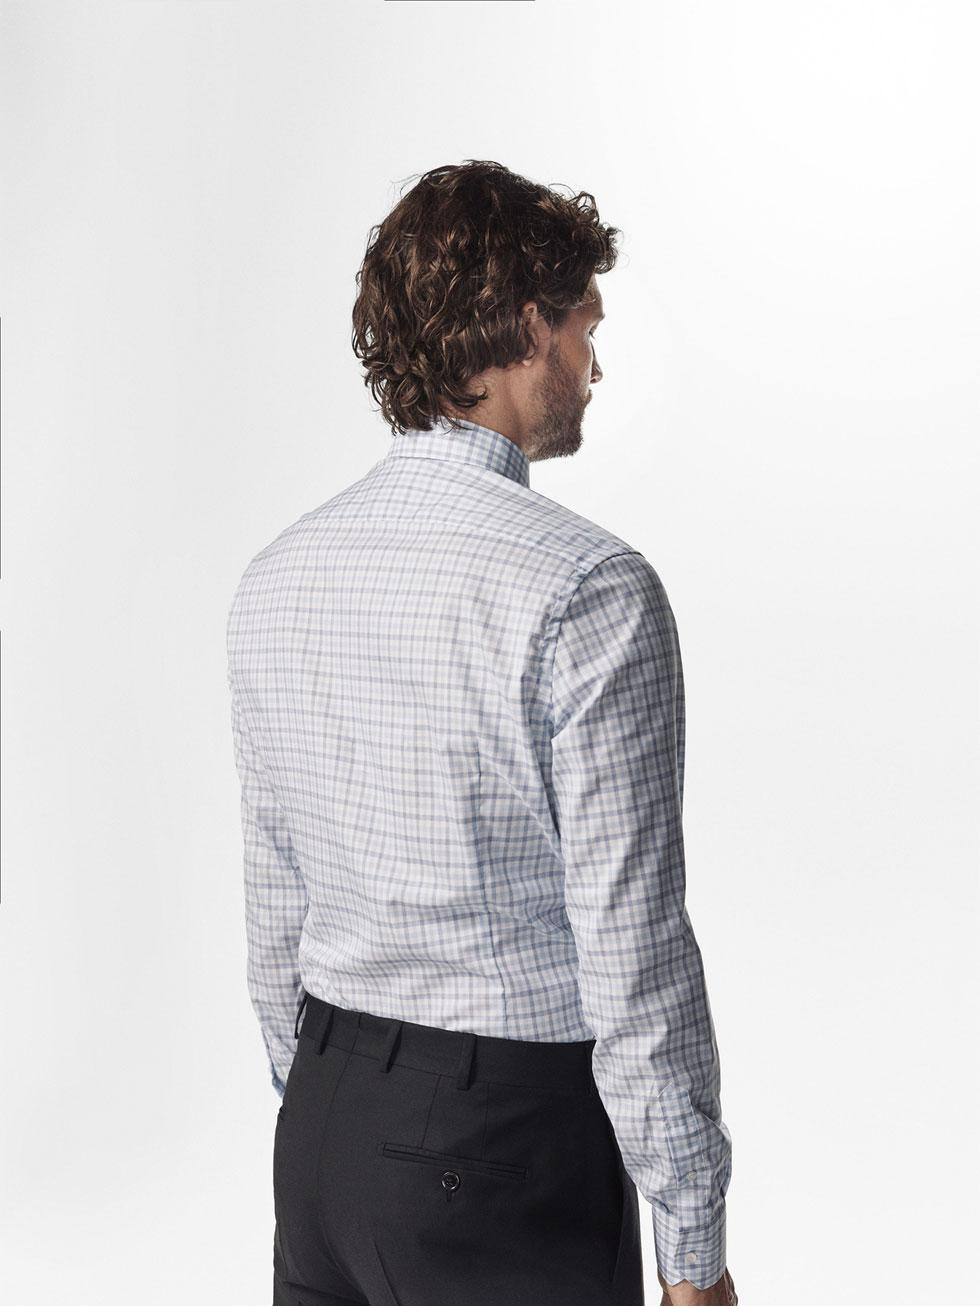teeshirt: (191, 415, 795, 1285)
